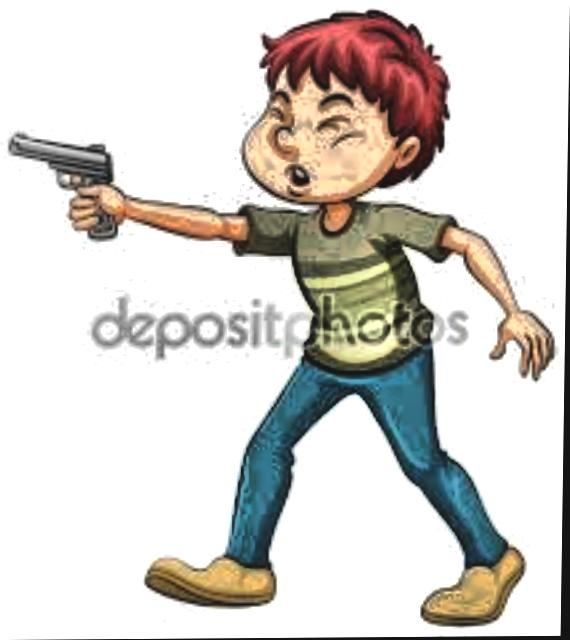pistol: (3, 126, 123, 239)
